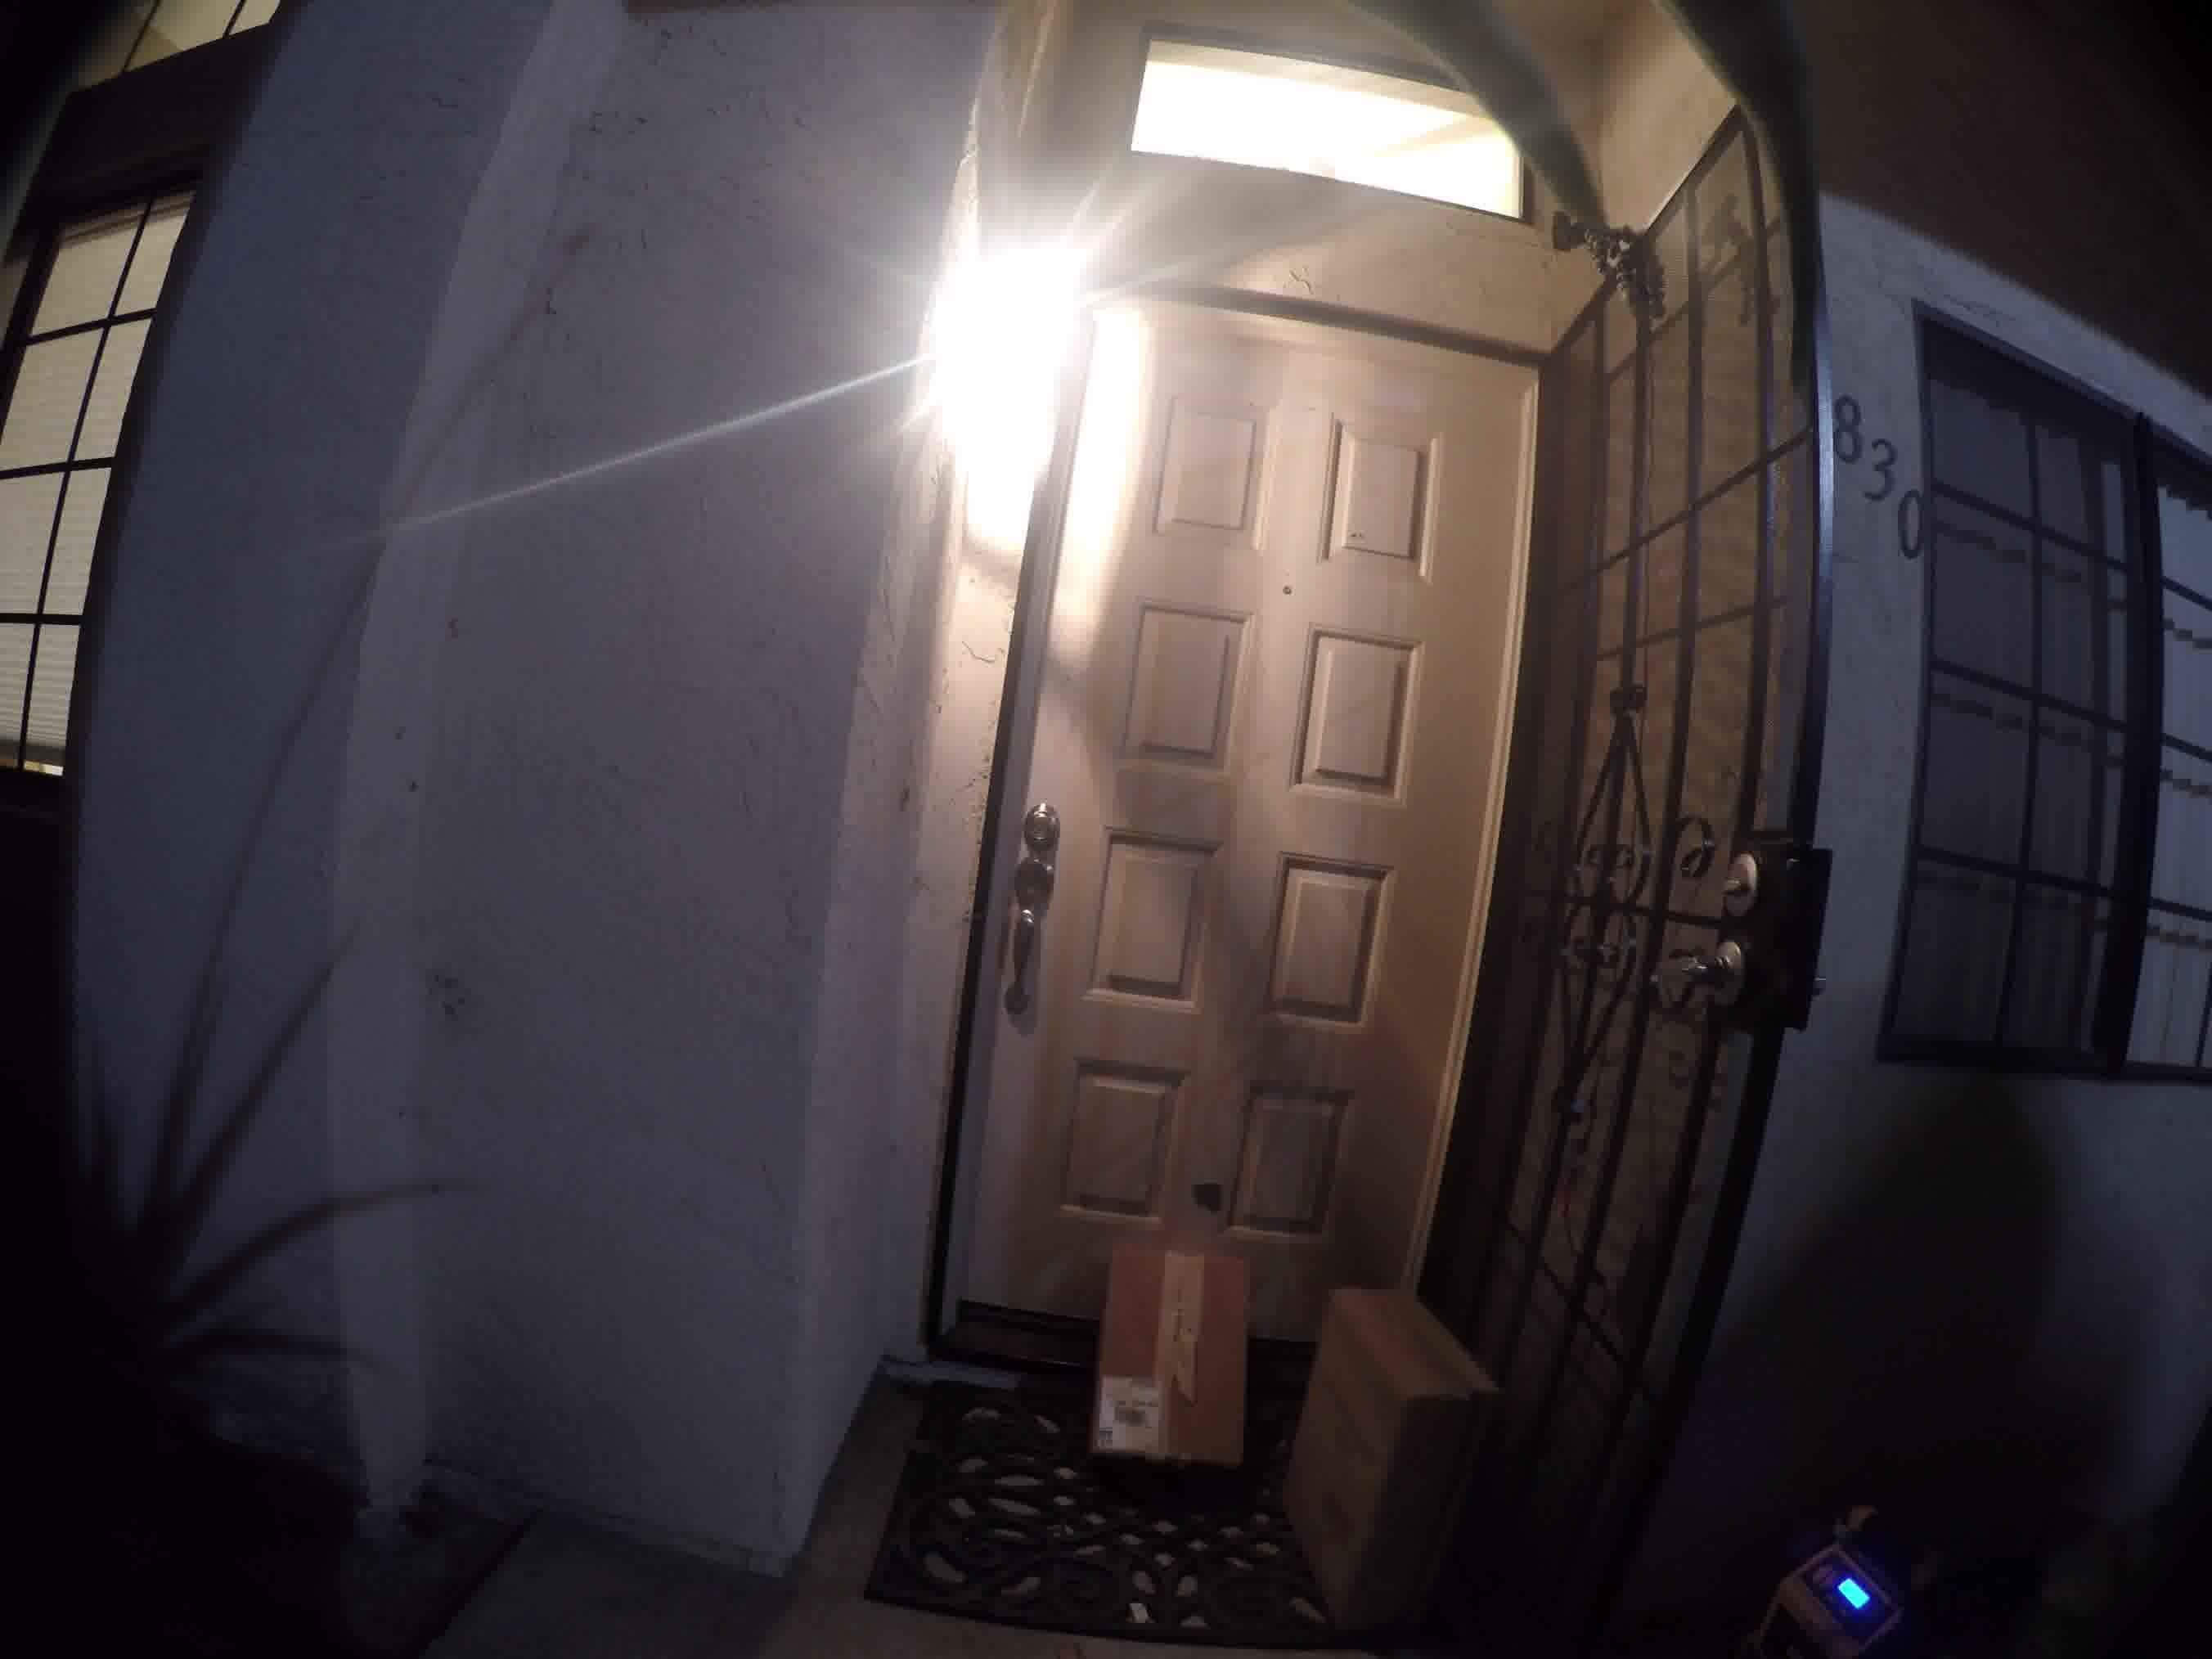box: (1327, 1279, 1486, 1595), (1106, 1223, 1261, 1464)
